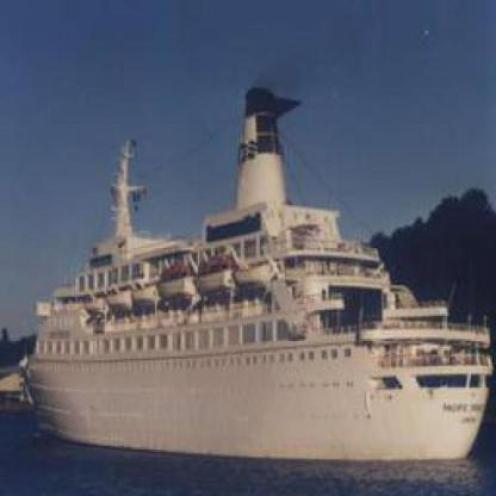Ship: (25, 246, 496, 465)
